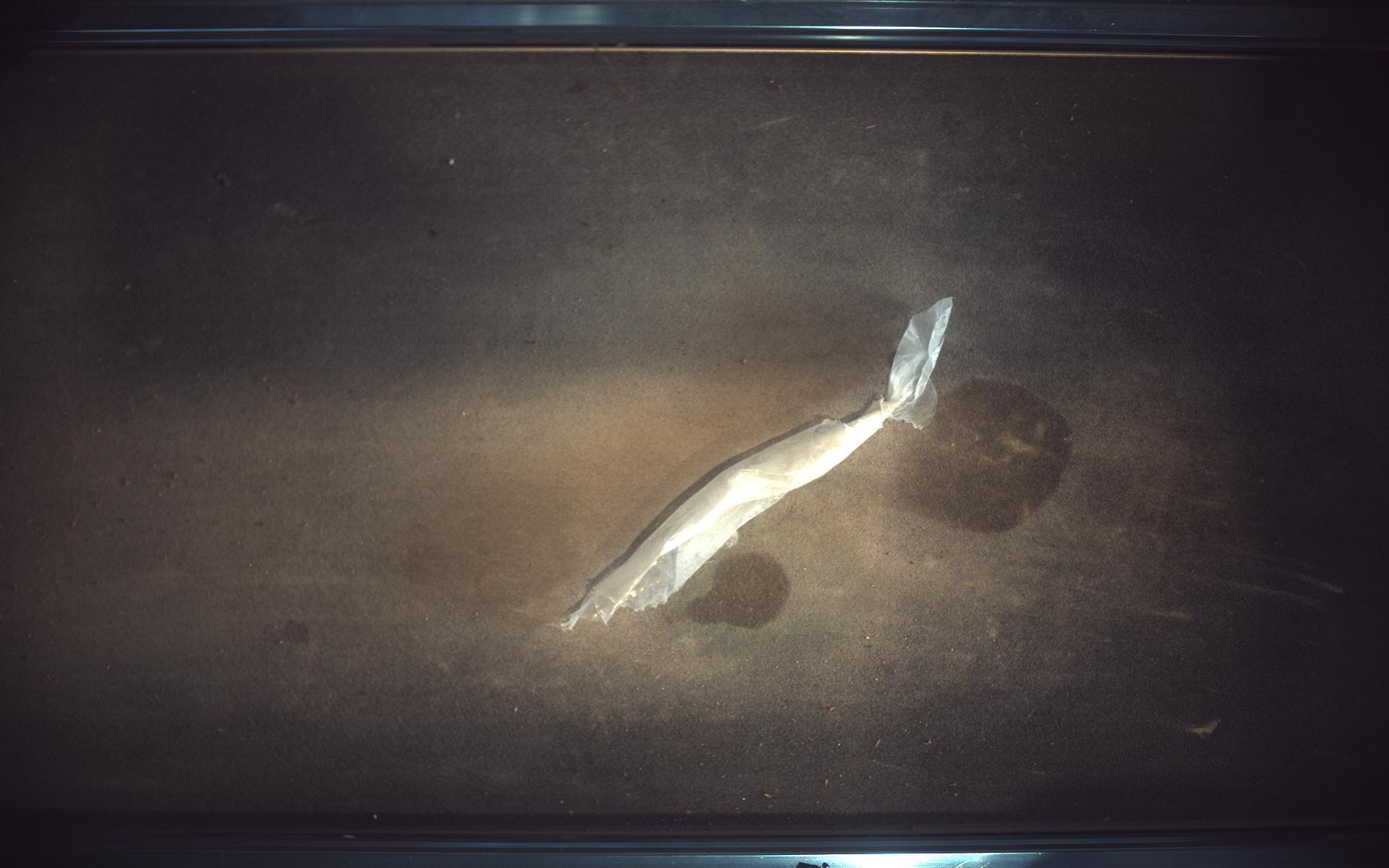general_w: (562, 297, 954, 631)
